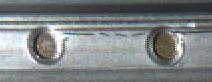joints: (144, 26, 185, 66), (26, 25, 63, 63)
